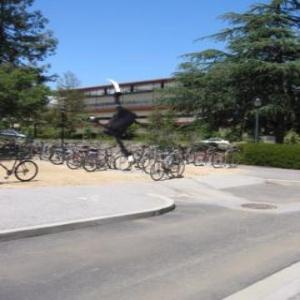drone: (68, 76, 167, 175)
